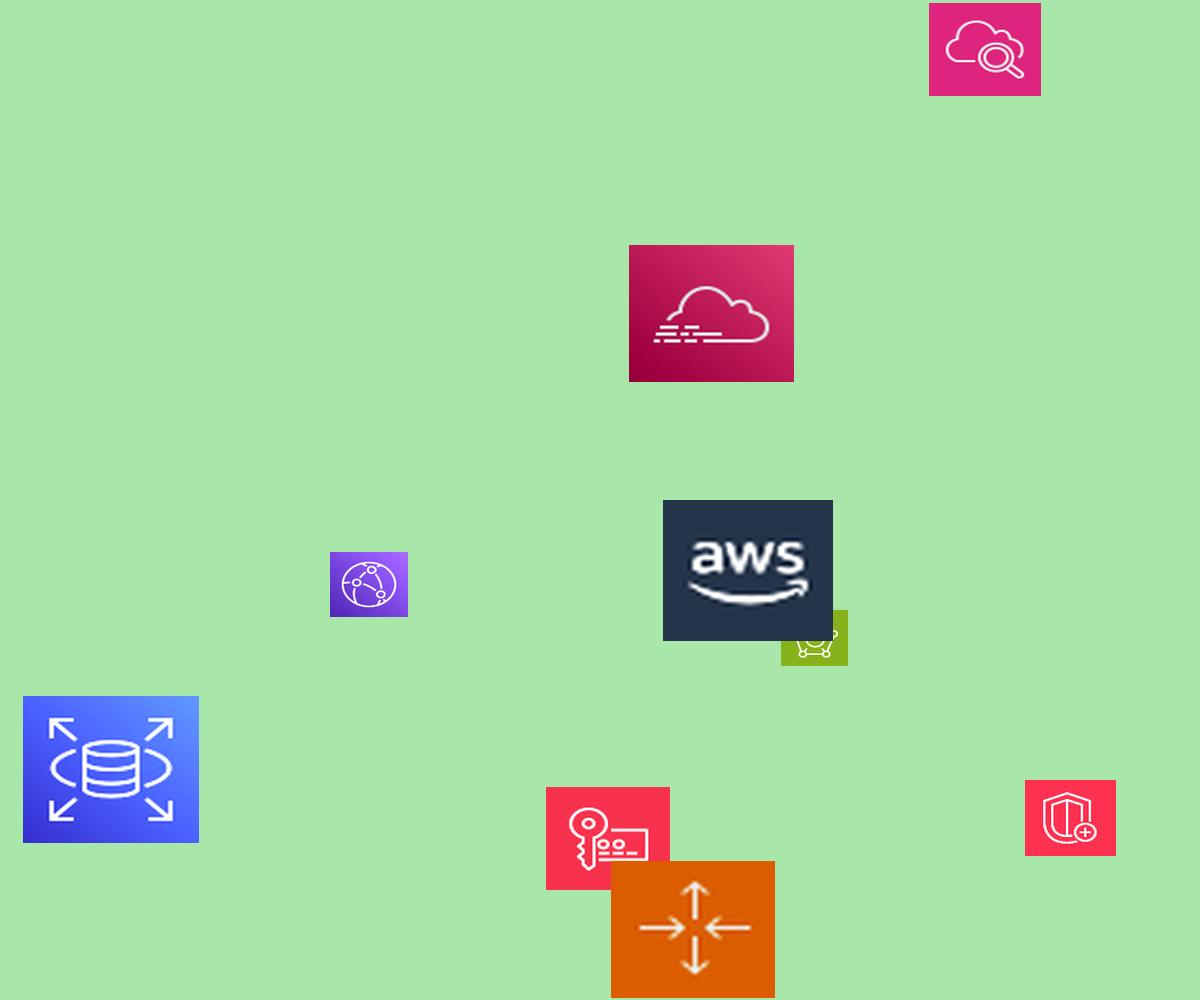AWS-Backup: (781, 610, 848, 666)
AWS-Cloud-logo: (663, 500, 833, 641)
AWS-CloudFront: (330, 552, 408, 617)
AWS-CloudTrail: (629, 245, 794, 382)
AWS-CloudWatch: (929, 3, 1041, 96)
AWS-Key-Management-Service: (546, 787, 670, 890)
AWS-RDS: (23, 696, 199, 843)
AWS-Scaling-group: (611, 861, 775, 998)
AWS-Shield: (1025, 780, 1116, 856)
